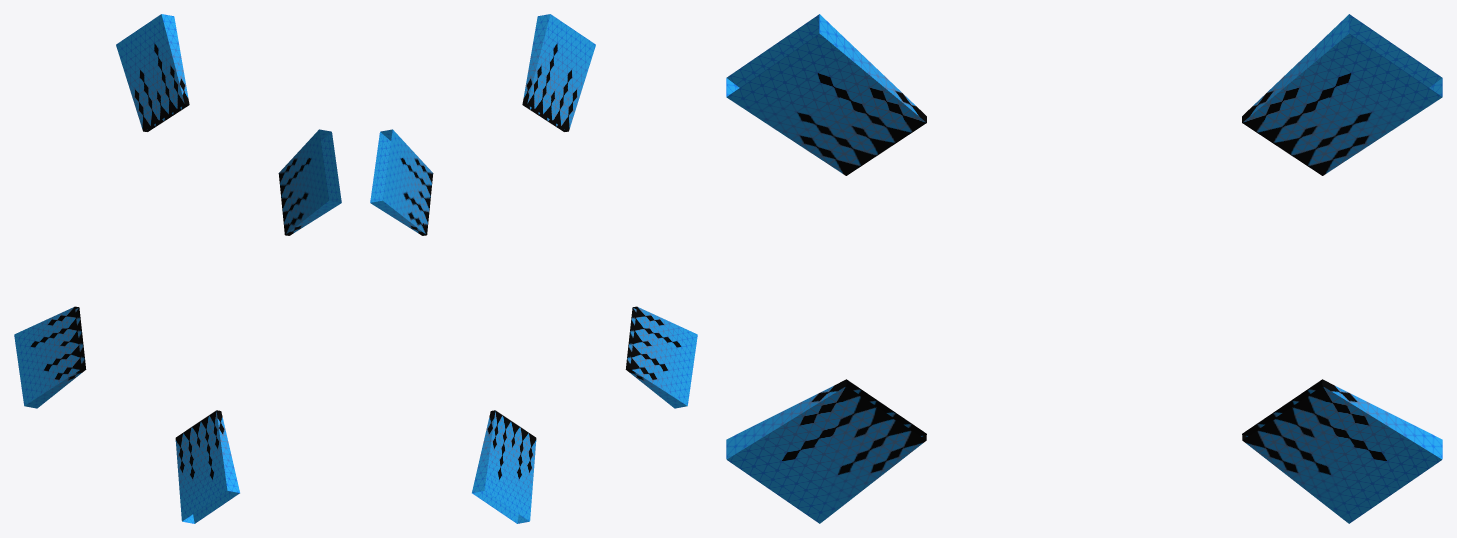
File: MecaDisplay_HOlogram.fbx
3 views of the same model, side by side, from view 1: azimuth 30°, elevation 25°; view 2: azimuth 150°, elevation 25°; view 3: azimuth 270°, elevation 25° (orthographic). The views are drawn at different scales.
Visible parts, largest first — view 1: MecaDisplay_Hologram; view 2: MecaDisplay_Hologram; view 3: MecaDisplay_Hologram.
Part boxes in pixels (x1,y1,x2,y2): MecaDisplay_Hologram: (14, 14, 341, 523); MecaDisplay_Hologram: (370, 14, 697, 523); MecaDisplay_Hologram: (726, 14, 1442, 523).
Bounding box in the file's own units: 122 × 282 × 300.
